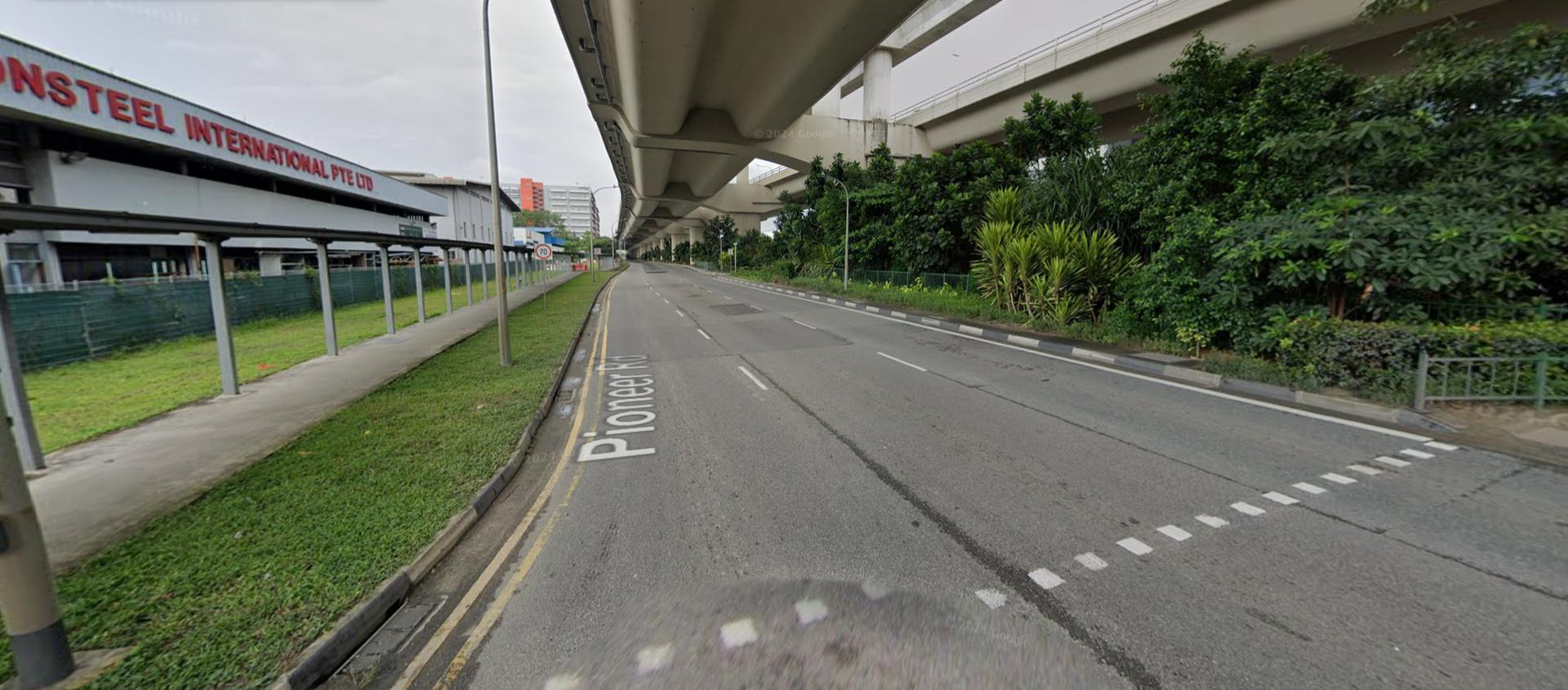normal: (338, 604, 432, 675)
